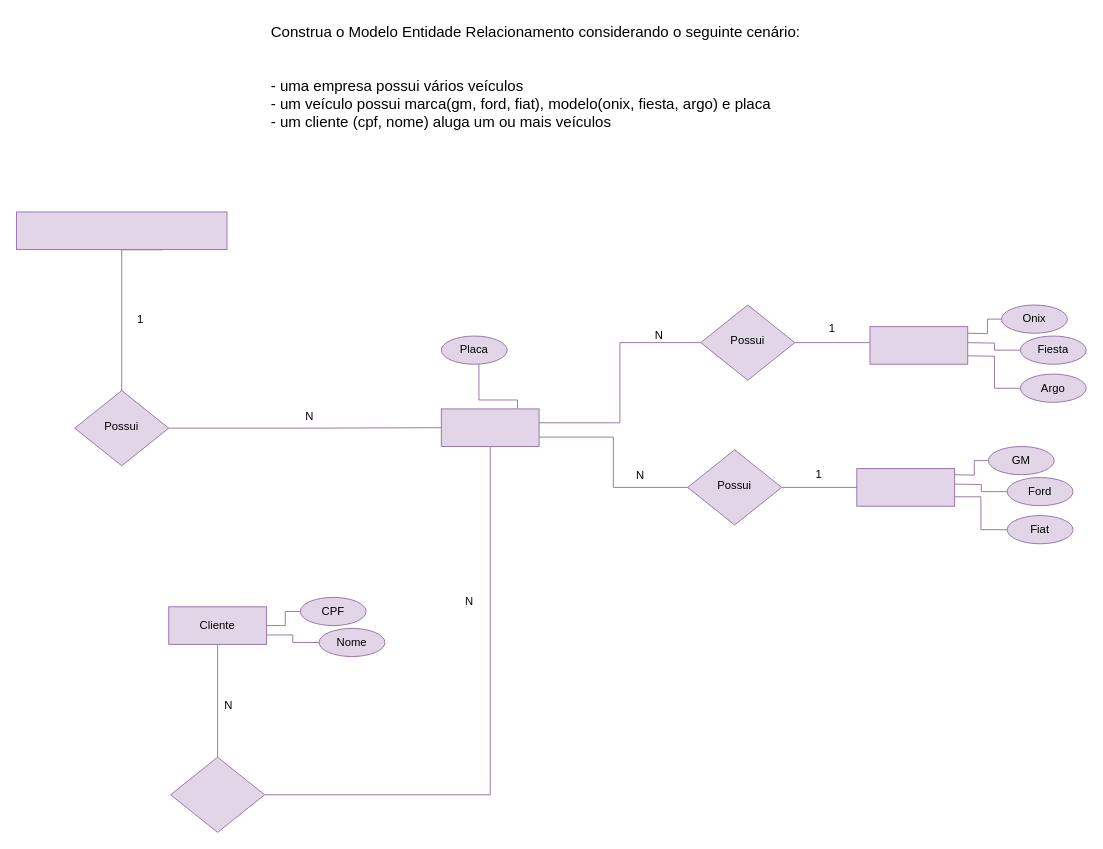
Image size: 1103x849. Some labels were removed from this diagram. Here are the shapes that lost their labels. From the top down, the centre of each, then its label:
At point 121,230: "Empresa".
At point 918,345: "Modelos".
At point 489,427: "Veículos".
At point 905,487: "Marcas".
At point 217,794: "Aluguel".
